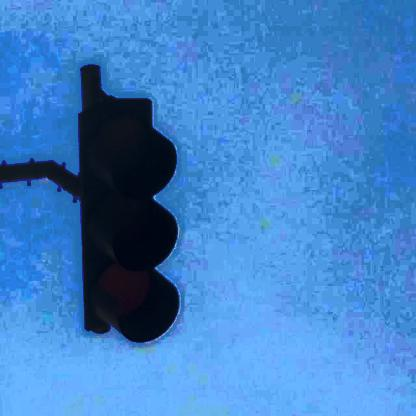Traffic Light -Red-: (74, 98, 180, 343)
